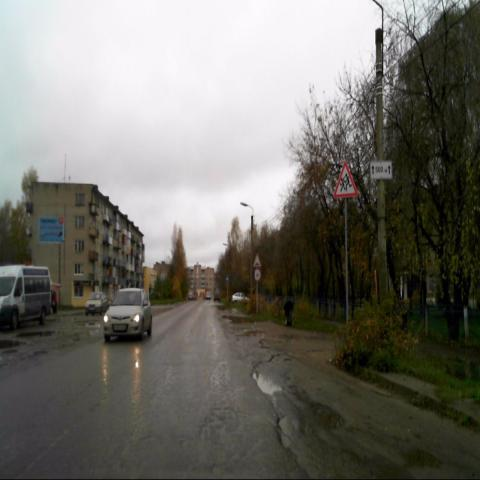1_17: (252, 252, 262, 268)
1_23: (334, 160, 358, 199)
3_24: (253, 268, 261, 281)
